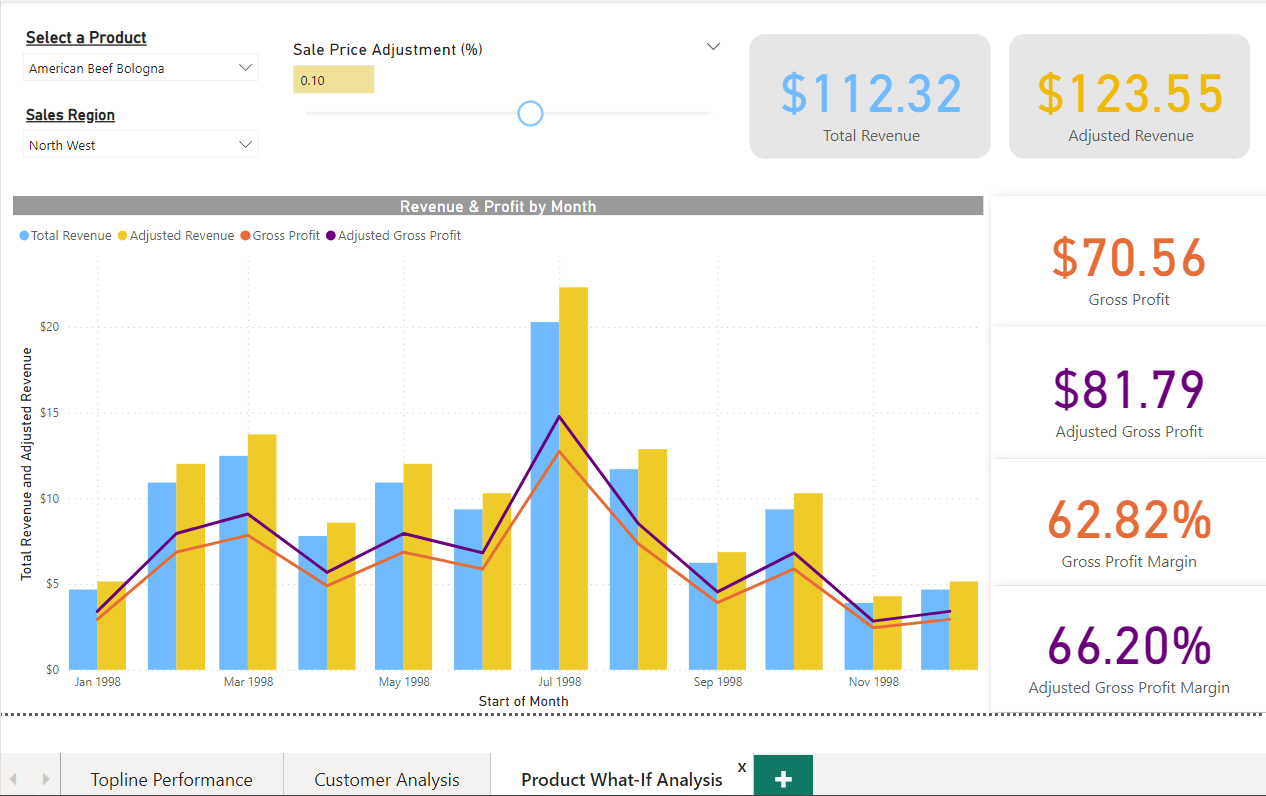

Layout of this report page (visuals, bound fields, positions):
{"tool":"powerbi","page":{"name":"Product What-If Analysis","canvas":[1280,720],"ordinal":2},"visuals":[{"type":"lineClusteredColumnComboChart","title":"Revenue & Profit by Month","fields":{"Category":["Calendar.Start of Month"],"Y":["Transaction_Data.Total Revenue","Transaction_Data.Adjusted Revenue"],"Y2":["Transaction_Data.Total Profit","Transaction_Data.Adjusted Profit"]},"box":[12.1,197.2,981.2,523.2],"z":0},{"type":"slicer","fields":{"Values":["Sale Price Adjustment (%).Sale Price Adjustment (%)"]},"box":[282.1,33.4,458,153.2],"z":1000},{"type":"slicer","fields":{"Values":["Products.product_name"]},"box":[12.1,21.2,257.8,89.5],"z":2000},{"type":"card","fields":{"Values":["Transaction_Data.Total Revenue"]},"box":[756.8,33.4,244.2,125.9],"z":3000},{"type":"card","fields":{"Values":["Transaction_Data.Adjusted Revenue"]},"box":[1019.1,33.4,244.2,125.9],"z":4000},{"type":"card","fields":{"Values":["Transaction_Data.Total Profit"]},"box":[1000.9,197.2,279.1,131.9],"z":5000},{"type":"card","fields":{"Values":["Transaction_Data.Adjusted Profit"]},"box":[1000.9,329.1,279.1,133.5],"z":6000},{"type":"card","fields":{"Values":["Transaction_Data.Profit Margin"]},"box":[1000.9,462.6,279.1,128.9],"z":7000},{"type":"card","fields":{"Values":["Transaction_Data.Adjusted Profit Margin"]},"box":[1000.9,591.5,279.1,127.4],"z":8000},{"type":"slicer","fields":{"Values":["Regions.sales_region"]},"box":[12.1,100.1,257.8,86.4],"z":9000}]}

Visuals, with their boxes on the page's 1280x720 design canvas (x1, y1, x2, y2). These are canvas units, not pixel positions in the 1266x796 screenshot, which may show the page scaled, cropped or inside an application window:
"Revenue & Profit by Month" lineClusteredColumnComboChart: (12,197,993,720)
slicer - Sale Price Adjustment (%).Sale Price Adjustment (%): (282,33,740,187)
slicer - Products.product_name: (12,21,270,111)
card - Transaction_Data.Total Revenue: (757,33,1001,159)
card - Transaction_Data.Adjusted Revenue: (1019,33,1263,159)
card - Transaction_Data.Total Profit: (1001,197,1280,329)
card - Transaction_Data.Adjusted Profit: (1001,329,1280,463)
card - Transaction_Data.Profit Margin: (1001,463,1280,592)
card - Transaction_Data.Adjusted Profit Margin: (1001,592,1280,719)
slicer - Regions.sales_region: (12,100,270,186)
